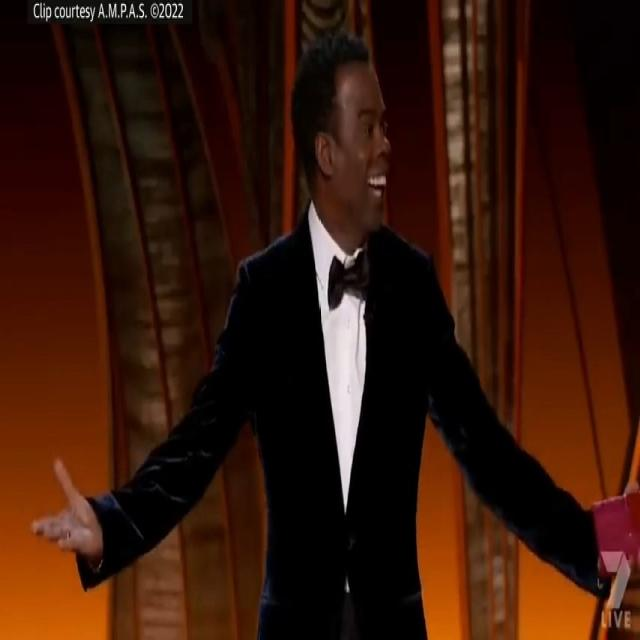non-fight: (15, 19, 627, 640)
